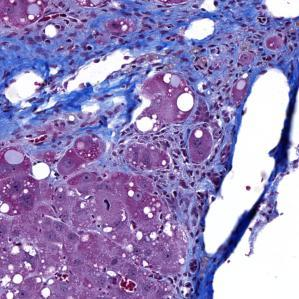fibrosis: (5, 13, 190, 115), (197, 33, 263, 116)
